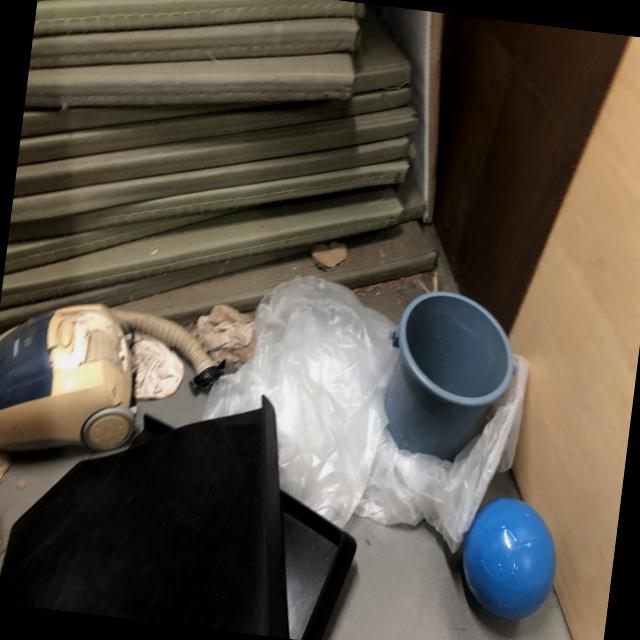blue_ball: (456, 492, 562, 628)
